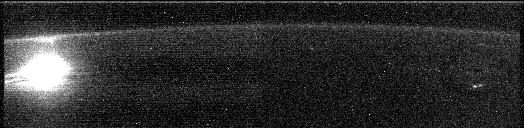positive: (31, 36, 59, 51)
